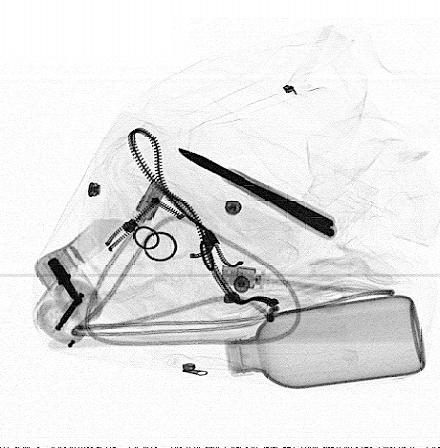Pliers: (177, 146, 337, 239)
